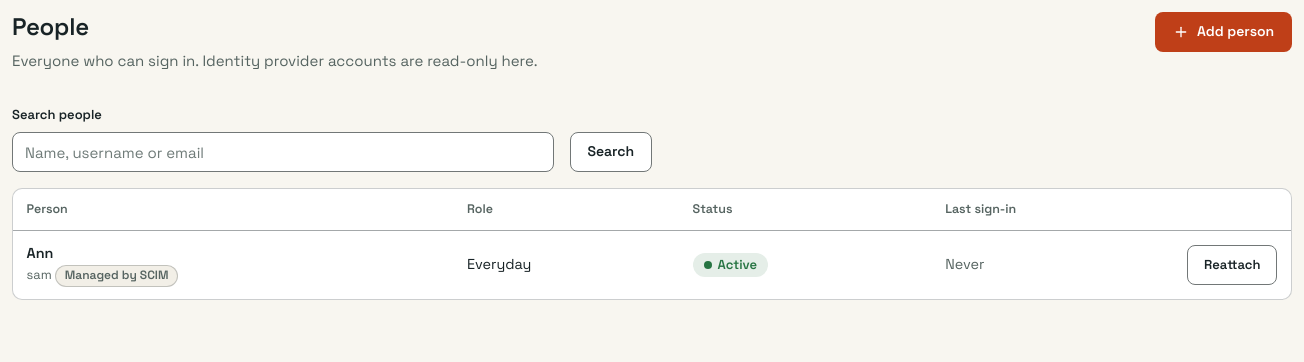
it: People › asks for a fresh sign-in when a reattach needs step-up
Click the button with aria-label "Reattach sam to current sign-in": {"x": 1232, "y": 265} [1187, 245, 1278, 285]
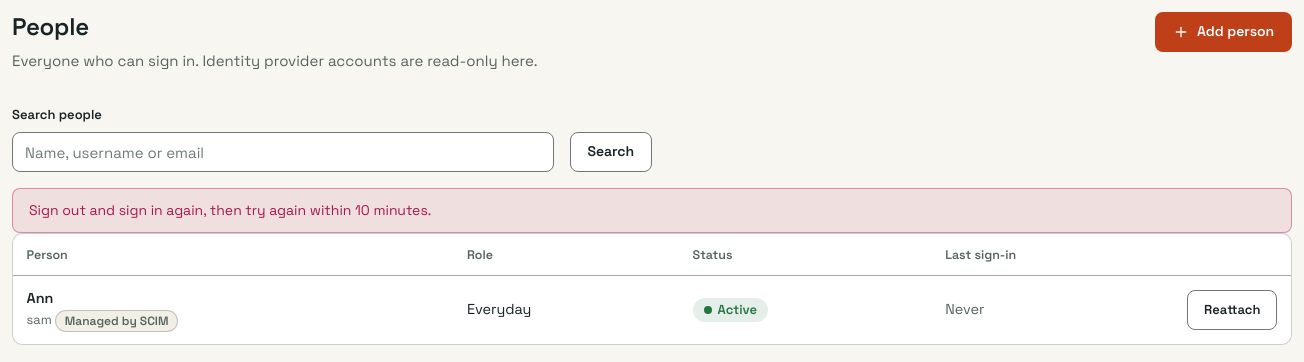
Check: the message shows "sign in again", box [29, 201, 431, 219]
